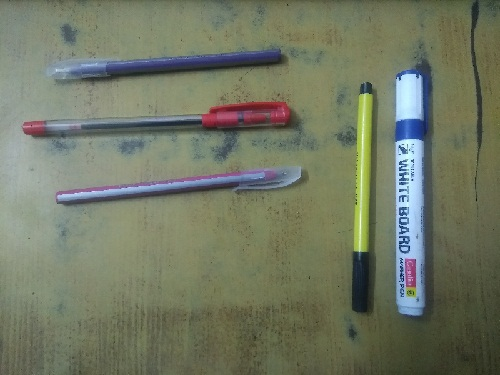pen: (19, 98, 290, 144), (51, 161, 305, 209), (387, 62, 432, 323), (40, 45, 286, 84), (351, 77, 376, 314)
